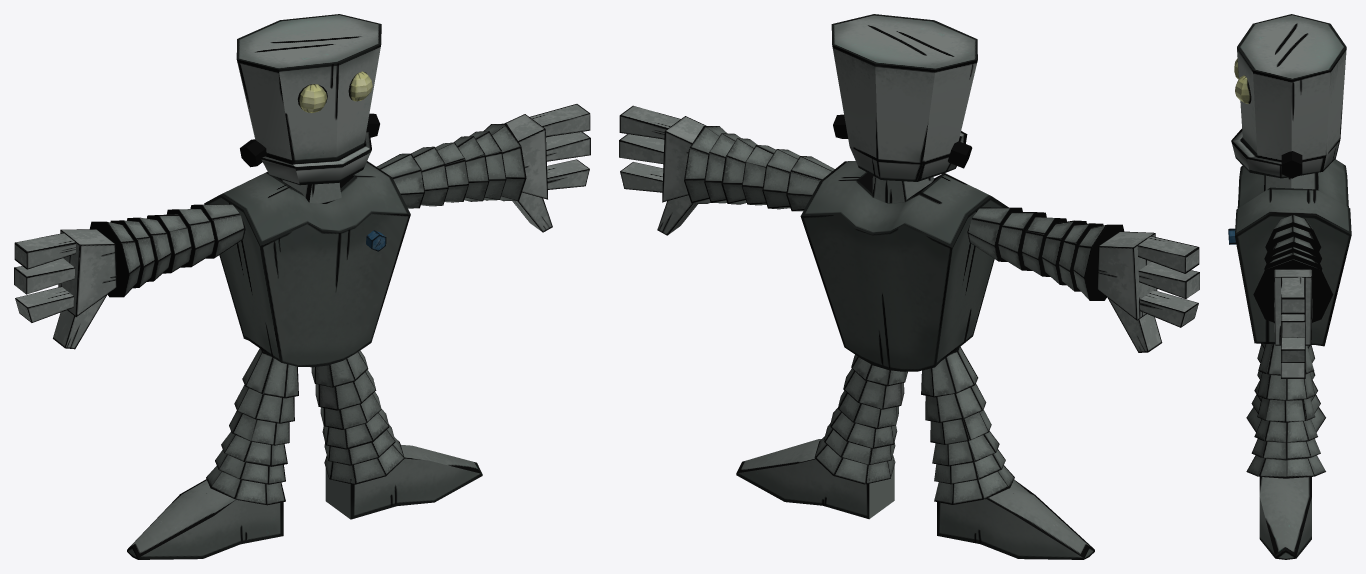
File: robot.fbx
3 views of the same model, side by side, from view 1: azimuth 30°, elevation 25°; view 2: azimuth 150°, elevation 25°; view 3: azimuth 270°, elevation 25° (orthographic). The views are drawn at different scales.
Visible parts, largest first — view 1: robot, arm, hand3; view 2: robot, arm, hand3; view 3: robot, arm, hand3.
Part boxes in pixels (x1,y1,x2,y2): robot: (127, 14, 482, 559); arm: (90, 123, 526, 505); hand3: (14, 104, 590, 349); robot: (736, 14, 1094, 559); arm: (684, 126, 1124, 504); hand3: (619, 105, 1199, 352); robot: (1228, 14, 1351, 559); arm: (1246, 215, 1333, 478); hand3: (1274, 269, 1312, 378).
Size of the model in its own units: 6.08 by 4.9 by 1.24.
Materials: 3 (3 with a texture image).
